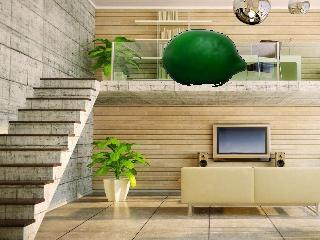lime: (160, 27, 250, 91)
